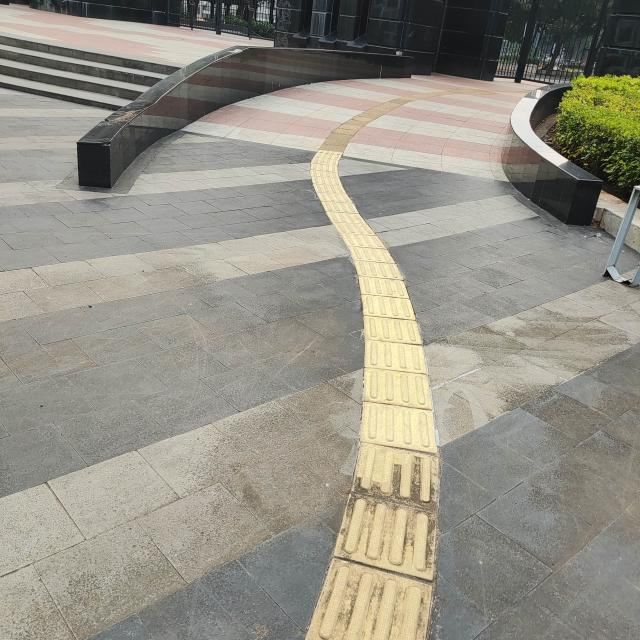lurus: (317, 229, 477, 640)
